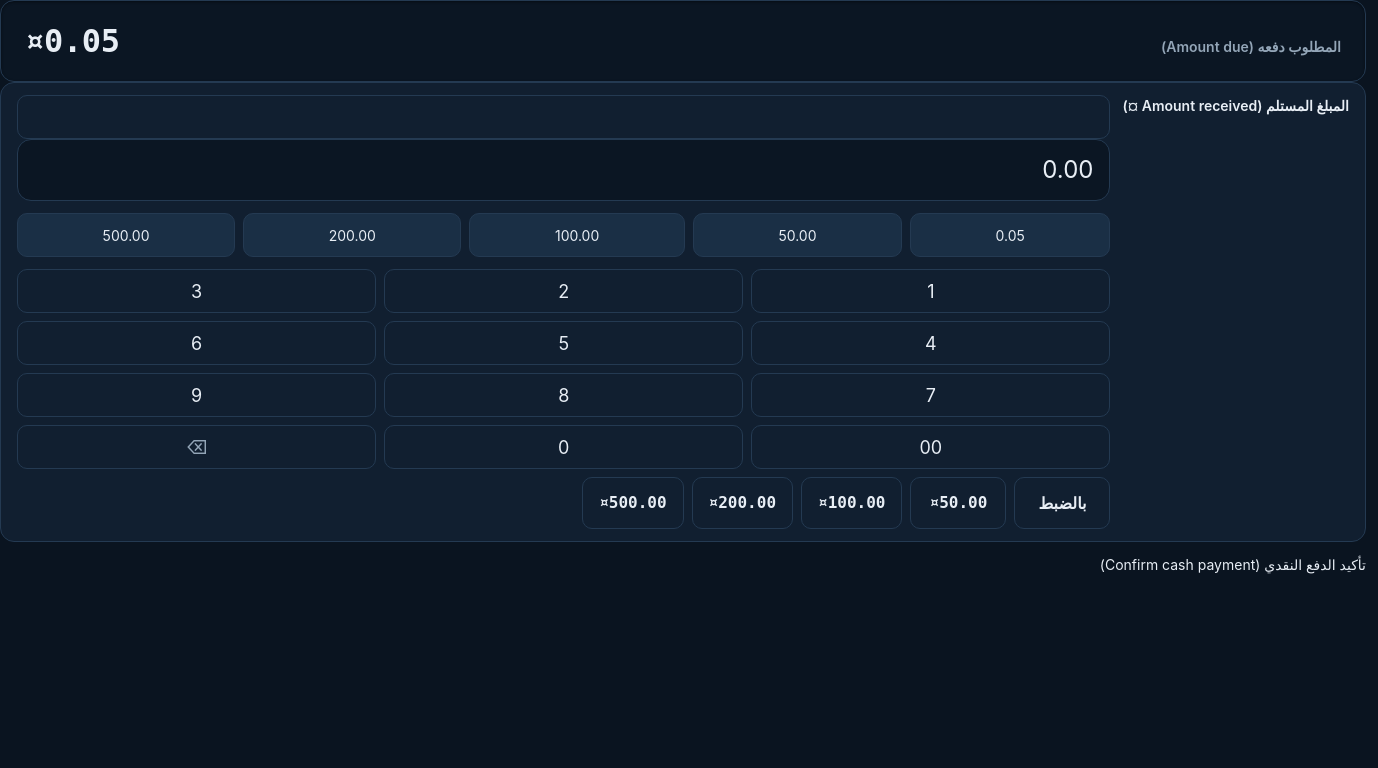
Test: <CashEntry> — AmountPad shared-state integration › a pad-built sufficient amount enables Confirm (shared gating)
The width and height of the screenshot is (1378, 768).
Expected: the button with test id "cash-entry-confirm" is disabled, [1100, 542, 1366, 586]
Step 1. Click the button with test id "amount-pad-key-9" → (197, 395), box [17, 373, 376, 417]
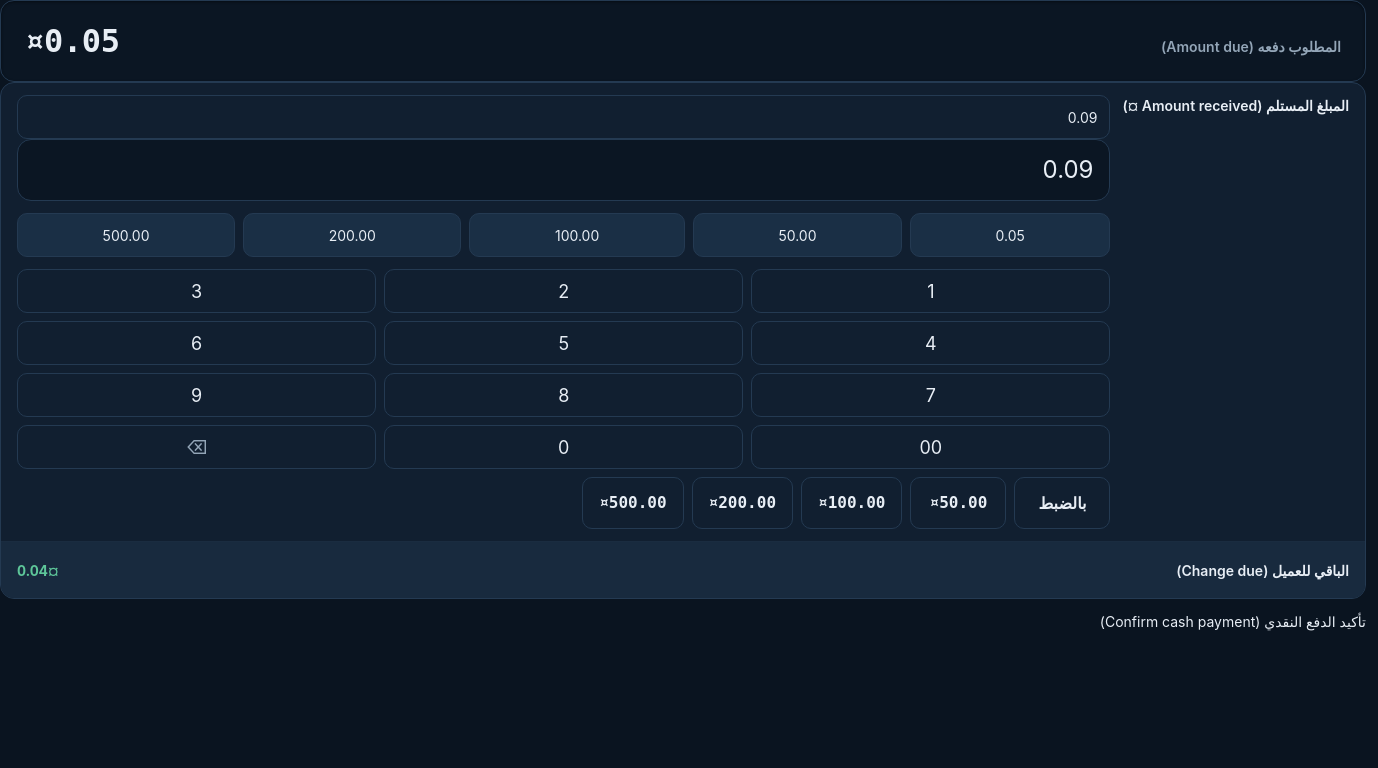
Now the button with test id "cash-entry-confirm" is enabled, box [1100, 599, 1366, 643]
